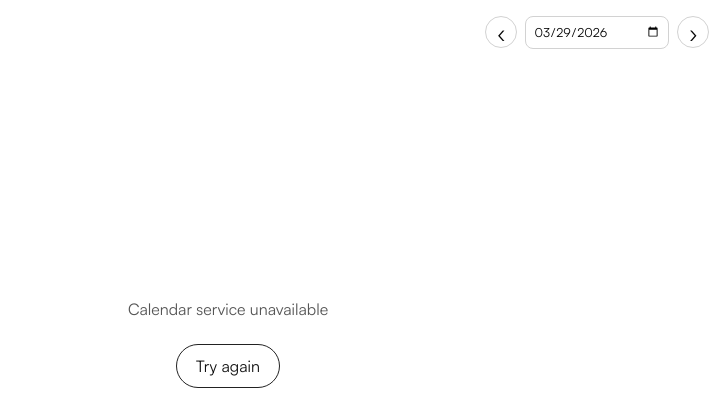
Test: calendar home page › shows a recoverable error and retries the same date
Expected: the message shows "Calendar service unavailable", [128, 299, 328, 319]
Click the button "Try again".
click(228, 366)  # box [176, 344, 280, 388]
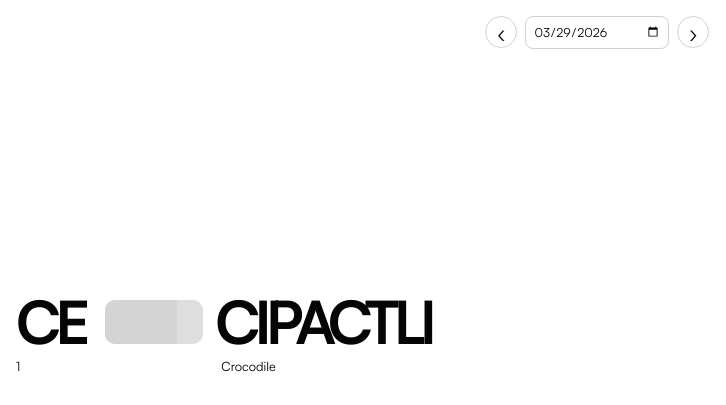
Expected: the heading named "Ce Cipactli" is shown, [215, 295, 431, 349]
